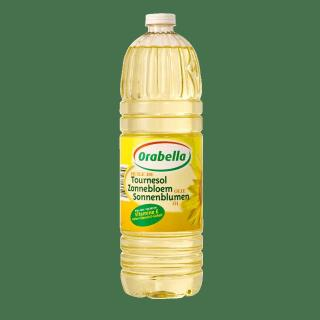Plastic-bottle: (108, 4, 224, 312)
